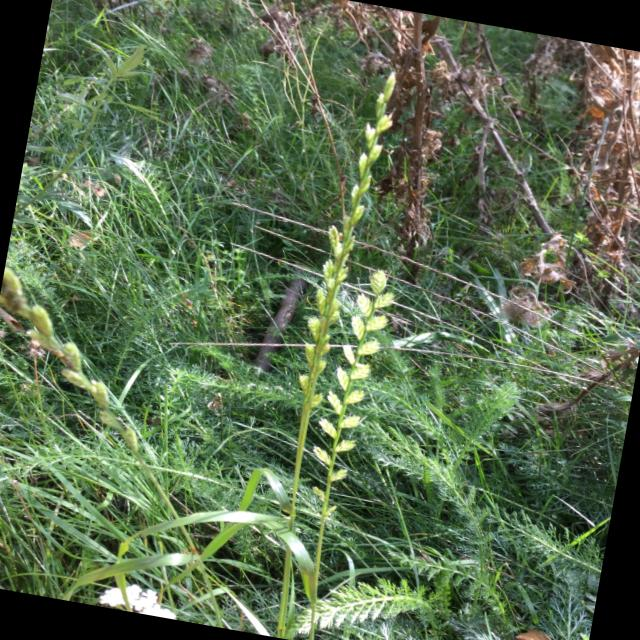Lolium: (253, 69, 420, 640)
